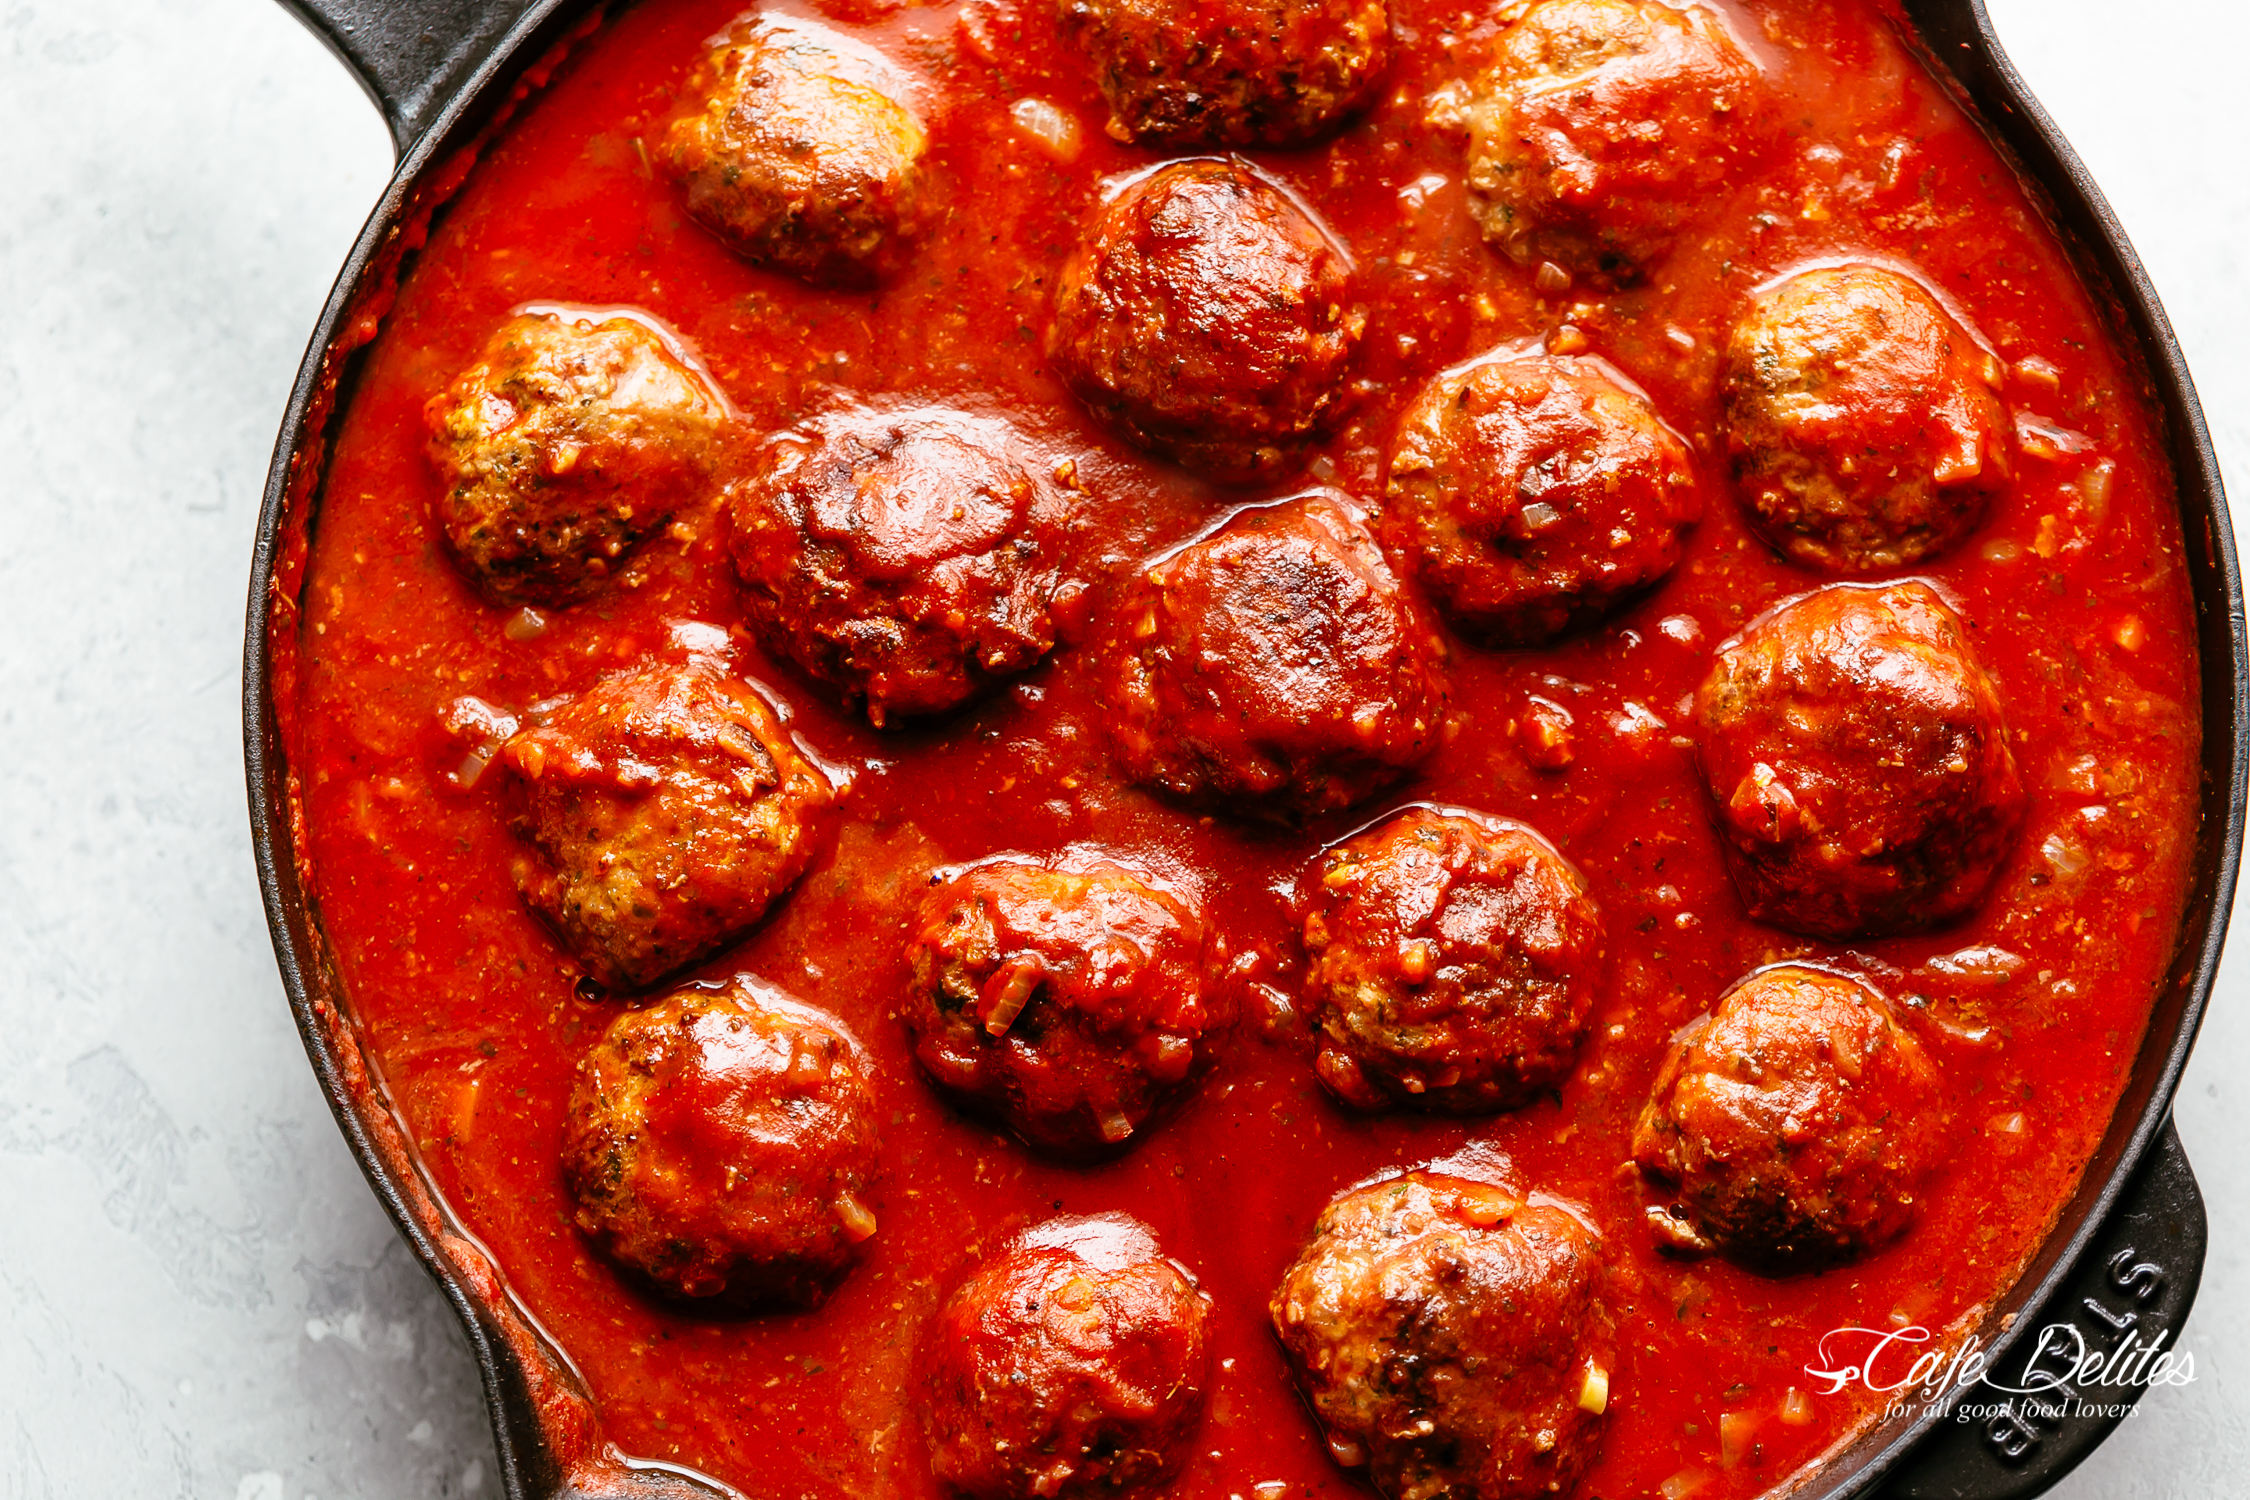meatballs: (435, 35, 2002, 1396)
